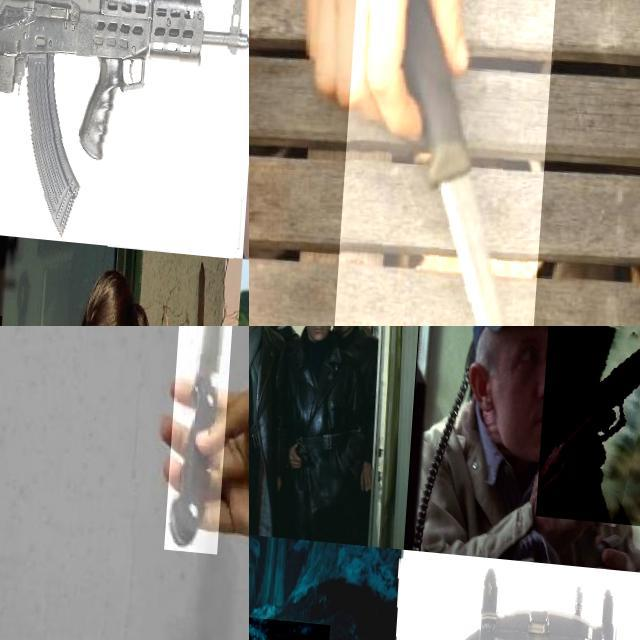-: (341, 0, 560, 326), (169, 326, 237, 546)
gun-knife-thesis - v11 Yolov5 augmented: (0, 0, 249, 251), (390, 543, 640, 640), (539, 326, 640, 514), (249, 381, 272, 429)
